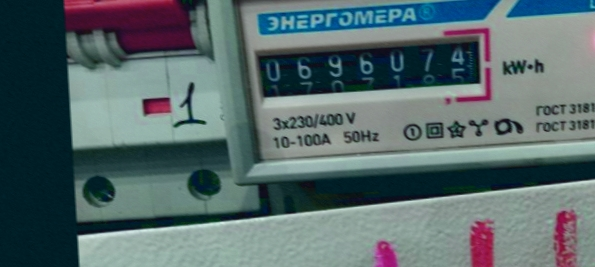0: (260, 56, 281, 82), (387, 45, 404, 72)
4: (448, 41, 465, 66)
5: (449, 65, 465, 84)
6: (293, 52, 314, 80), (355, 49, 373, 74)
7: (416, 45, 435, 72)
9: (323, 51, 344, 77)
screen: (241, 21, 497, 117)
